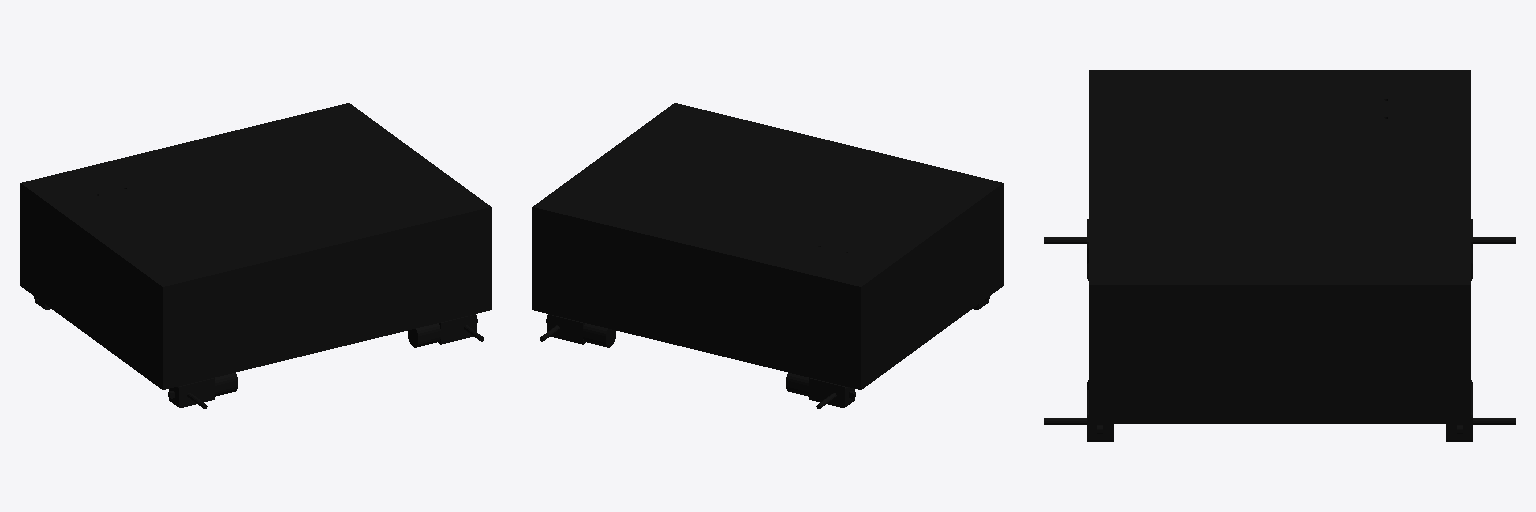
The robot description file, URDF, robot "mecanumbot":
<robot
  name="mecanumbot">
  <link
    name="base_link">
    <inertial>
      <origin
        xyz="-0.0468302529926084 -0.0134185737759999 -0.0824261310140349"
        rpy="0 0 0" />
      <mass
        value="0.963214943605585" />
      <inertia
        ixx="0.0134647040144989"
        ixy="-0.000265463820446584"
        ixz="-2.78747068323768E-05"
        iyy="0.00653225014173843"
        iyz="8.21292306097245E-05"
        izz="0.0182974601808885" />
    </inertial>
    <visual>
      <origin
        xyz="0 0 0"
        rpy="0 0 0" />
      <geometry>
        <mesh
          filename="package://cyrobot/urdf/mecanum/base_link.STL" />
      </geometry>
      <material
        name="">
        <color
          rgba="0.0980392156862745 0.0980392156862745 0.0980392156862745 1" />
      </material>
    </visual>
    <collision>
      <origin
        xyz="0 0 0"
        rpy="0 0 0" />
      <geometry>
        <mesh
          filename="package://cyrobot/urdf/mecanum/base_link.STL" />
      </geometry>
    </collision>
  </link>
  <link
    name="fl_wheel_link">
    <inertial>
      <origin
        xyz="0.02108 -8.5029E-07 3.7806E-05"
        rpy="0 0 0" />
      <mass
        value="0.33461" />
      <inertia
        ixx="0.00031908"
        ixy="4.8609E-07"
        ixz="2.8449E-07"
        iyy="0.0002658"
        iyz="-4.3138E-07"
        izz="0.00026633" />
    </inertial>
    <visual>
      <origin
        xyz="0 0 0"
        rpy="0 0 0" />
      <geometry>
        <mesh
          filename="package://cyrobot/urdf/mecanum/fl_wheel_link.STL" />
      </geometry>
      <material
        name="">
        <color
          rgba="0.5 0.5 0.5 1" />
      </material>
    </visual>
    <collision>
      <origin
        xyz="0 0 0"
        rpy="0 0 0" />
      <geometry>
        <mesh
          filename="package://cyrobot/urdf/mecanum/fl_wheel_link.STL" />
      </geometry>
    </collision>
  </link>
  <joint
    name="base_link_to_fl_wheel_joint"
    type="continuous">
    <origin
      xyz="0.0788531486544269 -0.147251192141458 -0.0851412158001636"
      rpy="1.5707963267949 0 0" />
    <parent
      link="base_link" />
    <child
      link="fl_wheel_link" />
    <axis
      xyz="-1 0 0" />
  </joint>
  <link
    name="fr_wheel_link">
    <inertial>
      <origin
        xyz="0.021164 5.4602E-06 -1.1653E-05"
        rpy="0 0 0" />
      <mass
        value="0.33461" />
      <inertia
        ixx="0.00031906"
        ixy="-1.3078E-07"
        ixz="9.0598E-08"
        iyy="0.00026623"
        iyz="2.618E-08"
        izz="0.00026621" />
    </inertial>
    <visual>
      <origin
        xyz="0 0 0"
        rpy="0 0 0" />
      <geometry>
        <mesh
          filename="package://cyrobot/urdf/mecanum/fr_wheel_link.STL" />
      </geometry>
      <material
        name="">
        <color
          rgba="0.5 0.5 0.5 1" />
      </material>
    </visual>
    <collision>
      <origin
        xyz="0 0 0"
        rpy="0 0 0" />
      <geometry>
        <mesh
          filename="package://cyrobot/urdf/mecanum/fr_wheel_link.STL" />
      </geometry>
    </collision>
  </link>
  <joint
    name="base_link_to_fr_wheel_joint"
    type="continuous">
    <origin
      xyz="-0.168291019374608 -0.147251192141458 -0.0851412158001628"
      rpy="2.08567039686228 0 3.14159265358979" />
    <parent
      link="base_link" />
    <child
      link="fr_wheel_link" />
    <axis
      xyz="1 0 0" />
  </joint>
  <link
    name="bl_wheel_link">
    <inertial>
      <origin
        xyz="0.021164 7.7945E-06 -6.7187E-06"
        rpy="0 0 0" />
      <mass
        value="0.33461" />
      <inertia
        ixx="0.00031906"
        ixy="-1.5891E-07"
        ixz="3.1125E-08"
        iyy="0.00026624"
        iyz="1.7121E-08"
        izz="0.0002662" />
    </inertial>
    <visual>
      <origin
        xyz="0 0 0"
        rpy="0 0 0" />
      <geometry>
        <mesh
          filename="package://cyrobot/urdf/mecanum/bl_wheel_link.STL" />
      </geometry>
      <material
        name="">
        <color
          rgba="0.5 0.5 0.5 1" />
      </material>
    </visual>
    <collision>
      <origin
        xyz="0 0 0"
        rpy="0 0 0" />
      <geometry>
        <mesh
          filename="package://cyrobot/urdf/mecanum/bl_wheel_link.STL" />
      </geometry>
    </collision>
  </link>
  <joint
    name="base_link_to_bl_wheel_joint"
    type="continuous">
    <origin
      xyz="0.0788180033333974 0.110748807858542 -0.0851412158001625"
      rpy="1.5707963267949 0 0" />
    <parent
      link="base_link" />
    <child
      link="bl_wheel_link" />
    <axis
      xyz="1 0 0" />
  </joint>
  <link
    name="br_wheel_link">
    <inertial>
      <origin
        xyz="0.02108 -3.0956E-06 3.2979E-05"
        rpy="0 0 0" />
      <mass
        value="0.33461" />
      <inertia
        ixx="0.00031908"
        ixy="5.1312E-07"
        ixz="3.4259E-07"
        iyy="0.00026578"
        iyz="-4.2237E-07"
        izz="0.00026634" />
    </inertial>
    <visual>
      <origin
        xyz="0 0 0"
        rpy="0 0 0" />
      <geometry>
        <mesh
          filename="package://cyrobot/urdf/mecanum/br_wheel_link.STL" />
      </geometry>
      <material
        name="">
        <color
          rgba="0.5 0.5 0.5 1" />
      </material>
    </visual>
    <collision>
      <origin
        xyz="0 0 0"
        rpy="0 0 0" />
      <geometry>
        <mesh
          filename="package://cyrobot/urdf/mecanum/br_wheel_link.STL" />
      </geometry>
    </collision>
  </link>
  <joint
    name="base_link_to_br_wheel_joint"
    type="continuous">
    <origin
      xyz="-0.168326164695638 0.110748807858543 -0.0851412158001639"
      rpy="2.07266866801634 0 3.14159265358979" />
    <parent
      link="base_link" />
    <child
      link="br_wheel_link" />
    <axis
      xyz="-1 0 0" />
  </joint>
  <link
    name="base_laser">
    <inertial>
      <origin
        xyz="-0.00610408561341411 4.74394690197499E-10 -0.0117846353165668"
        rpy="0 0 0" />
      <mass
        value="0.209244181201808" />
      <inertia
        ixx="0.000110184398375382"
        ixy="-2.0430212811893E-12"
        ixz="2.33665153595339E-05"
        iyy="0.000168161810285351"
        iyz="-2.0599988717986E-12"
        izz="0.000217623921858232" />
    </inertial>
    <visual>
      <origin
        xyz="0 0 0"
        rpy="0 0 0" />
      <geometry>
        <mesh
          filename="package://cyrobot/urdf/mecanum/base_laser.STL" />
      </geometry>
      <material
        name="">
        <color
          rgba="0.0980392156862745 0.0980392156862745 0.0980392156862745 1" />
      </material>
    </visual>
    <collision>
      <origin
        xyz="0 0 0"
        rpy="0 0 0" />
      <geometry>
        <mesh
          filename="package://cyrobot/urdf/mecanum/base_laser.STL" />
      </geometry>
    </collision>
  </link>
  <joint
    name="base_link_to_base_laser"
    type="fixed">
    <origin
      xyz="-0.0447365080206049 -0.117567277135445 -0.00506621580016293"
      rpy="0 -6.12303176911189E-17 -1.5707963267949" />
    <parent
      link="base_link" />
    <child
      link="base_laser" />
    <axis
      xyz="0 0 0" />
  </joint>
  <link
    name="mid_plate_link">
    <inertial>
      <origin
        xyz="1.6128E-05 0.0015881 -0.017739"
        rpy="0 0 0" />
      <mass
        value="0.23689" />
      <inertia
        ixx="0.002171"
        ixy="-2.3382E-12"
        ixz="-5.1294E-07"
        iyy="0.0032534"
        iyz="-1.6807E-08"
        izz="0.0010828" />
    </inertial>
    <visual>
      <origin
        xyz="0 0 0"
        rpy="0 0 0" />
      <geometry>
        <mesh
          filename="package://cyrobot/urdf/mecanum/mid_plate_link.STL" />
      </geometry>
      <material
        name="">
        <color
          rgba="1 1 1 0.3" />
      </material>
    </visual>
    <collision>
      <origin
        xyz="0 0 0"
        rpy="0 0 0" />
      <geometry>
        <mesh
          filename="package://cyrobot/urdf/mecanum/mid_plate_link.STL" />
      </geometry>
    </collision>
  </link>
  <joint
    name="base_link_to_mid_plate_link"
    type="fixed">
    <origin
      xyz="-0.0447365080206053 -0.0182511921414576 -0.0204662158001629"
      rpy="1.5707963267949 0 0" />
    <parent
      link="base_link" />
    <child
      link="mid_plate_link" />
    <axis
      xyz="0 0 0" />
  </joint>
  <link
    name="top_plate_supports">
    <inertial>
      <origin
        xyz="0.032556 -0.021976 6.3957E-07"
        rpy="0 0 0" />
      <mass
        value="0.011427" />
      <inertia
        ixx="0.00013177"
        ixy="6.8725E-11"
        ixz="1.7139E-11"
        iyy="5.4806E-05"
        iyz="-5.7899E-11"
        izz="0.00018539" />
    </inertial>
    <visual>
      <origin
        xyz="0 0 0"
        rpy="0 0 0" />
      <geometry>
        <mesh
          filename="package://cyrobot/urdf/mecanum/top_plate_supports.STL" />
      </geometry>
      <material
        name="">
        <color
          rgba="0.86667 0.9098 1 1" />
      </material>
    </visual>
    <collision>
      <origin
        xyz="0 0 0"
        rpy="0 0 0" />
      <geometry>
        <mesh
          filename="package://cyrobot/urdf/mecanum/top_plate_supports.STL" />
      </geometry>
    </collision>
  </link>
  <joint
    name="mid_plate_link_to_top_plate_supports"
    type="fixed">
    <origin
      xyz="-0.0325563676649805 0.015675 0.006161057906821"
      rpy="1.5707963267949 0 0" />
    <parent
      link="mid_plate_link" />
    <child
      link="top_plate_supports" />
    <axis
      xyz="0 0 0" />
  </joint>
  <link
    name="top_plate_link">
    <inertial>
      <origin
        xyz="-0.16966 0.00013265 -0.0015888"
        rpy="0 0 0" />
      <mass
        value="0.28331" />
      <inertia
        ixx="0.0011384"
        ixy="-5.8832E-06"
        ixz="-1.9222E-09"
        iyy="0.0027192"
        iyz="5.0491E-11"
        izz="0.0038572" />
    </inertial>
    <visual>
      <origin
        xyz="0 0 0"
        rpy="0 0 0" />
      <geometry>
        <mesh
          filename="package://cyrobot/urdf/mecanum/top_plate_link.STL" />
      </geometry>
      <material
        name="">
        <color
          rgba="1 1 1 0.3" />
      </material>
    </visual>
    <collision>
      <origin
        xyz="0 0 0"
        rpy="0 0 0" />
      <geometry>
        <mesh
          filename="package://cyrobot/urdf/mecanum/top_plate_link.STL" />
      </geometry>
    </collision>
  </link>
  <joint
    name="top_plate_supports_to_top_plate_link"
    type="fixed">
    <origin
      xyz="0.0325563676649805 0.163838942093179 -0.015675"
      rpy="3.14159265358979 -8.67361737988403E-17 1.5707963267949" />
    <parent
      link="top_plate_supports" />
    <child
      link="top_plate_link" />
    <axis
      xyz="0 0 0" />
  </joint>
  <link
    name="camera_supports">
    <inertial>
      <origin
        xyz="0.097 0.042365 2.7756E-17"
        rpy="0 0 0" />
      <mass
        value="0.041975" />
      <inertia
        ixx="2.3362E-05"
        ixy="7.0655E-23"
        ixz="8.4124E-20"
        iyy="0.00039559"
        iyz="-7.0524E-23"
        izz="0.0004183" />
    </inertial>
    <visual>
      <origin
        xyz="0 0 0"
        rpy="0 0 0" />
      <geometry>
        <mesh
          filename="package://cyrobot/urdf/mecanum/camera_supports.STL" />
      </geometry>
      <material
        name="">
        <color
          rgba="0.86667 0.9098 1 1" />
      </material>
    </visual>
    <collision>
      <origin
        xyz="0 0 0"
        rpy="0 0 0" />
      <geometry>
        <mesh
          filename="package://cyrobot/urdf/mecanum/camera_supports.STL" />
      </geometry>
    </collision>
  </link>
  <joint
    name="top_plate_link_to_camera_supports"
    type="fixed">
    <origin
      xyz="-0.29 -0.097 0"
      rpy="1.5707963267949 0 1.5707963267949" />
    <parent
      link="top_plate_link" />
    <child
      link="camera_supports" />
    <axis
      xyz="0 0 0" />
  </joint>
  <link
    name="camera_link">
    <inertial>
      <origin
        xyz="-0.029956 9.3245E-05 -0.0070276"
        rpy="0 0 0" />
      <mass
        value="0.69591" />
      <inertia
        ixx="0.0033836"
        ixy="1.7407E-06"
        ixz="5.1418E-06"
        iyy="0.00047859"
        iyz="4.5598E-07"
        izz="0.0033435" />
    </inertial>
    <visual>
      <origin
        xyz="0 0 0"
        rpy="0 0 0" />
      <geometry>
        <mesh
          filename="package://cyrobot/urdf/mecanum/camera_link.STL" />
      </geometry>
      <material
        name="">
        <color
          rgba="0.098039 0.098039 0.098039 1" />
      </material>
    </visual>
    <collision>
      <origin
        xyz="0 0 0"
        rpy="0 0 0" />
      <geometry>
        <mesh
          filename="package://cyrobot/urdf/mecanum/camera_link.STL" />
      </geometry>
    </collision>
  </link>
  <joint
    name="camera_supports_to_camera_link"
    type="fixed">
    <origin
      xyz="0.097 0.10242 0.0175000000000002"
      rpy="-1.5707963267949 -1.5707963267949 0" />
    <parent
      link="camera_supports" />
    <child
      link="camera_link" />
    <axis
      xyz="0 0 0" />
  </joint>
  <link
    name="e_stop">
    <inertial>
      <origin
        xyz="3.4694E-18 0.0063686 0"
        rpy="0 0 0" />
      <mass
        value="0.016321" />
      <inertia
        ixx="2.4638E-06"
        ixy="6.2017E-22"
        ixz="-2.6181E-22"
        iyy="1.3157E-06"
        iyz="-1.9965E-22"
        izz="2.4638E-06" />
    </inertial>
    <visual>
      <origin
        xyz="0 0 0"
        rpy="0 0 0" />
      <geometry>
        <mesh
          filename="package://cyrobot/urdf/mecanum/e_stop.STL" />
      </geometry>
      <material
        name="">
        <color
          rgba="0.7 0 0 1" />
      </material>
    </visual>
    <collision>
      <origin
        xyz="0 0 0"
        rpy="0 0 0" />
      <geometry>
        <mesh
          filename="package://cyrobot/urdf/mecanum/e_stop.STL" />
      </geometry>
    </collision>
  </link>
  <joint
    name="base_link_to_e_stop"
    type="fixed">
    <origin
      xyz="0.0184384919793947 0.144923807858542 -0.0836412158001629"
      rpy="-6.12303176911189E-17 0 0" />
    <parent
      link="base_link" />
    <child
      link="e_stop" />
    <axis
      xyz="0 0 0" />
  </joint>
</robot>

--- Render facts (derived) ---
The picture shows the robot from 3 angles, left to right: view 1: azimuth 30°, elevation 25°; view 2: azimuth 150°, elevation 25°; view 3: azimuth 270°, elevation 25°; orthographic projection.
Model mecanumbot with 12 links and 11 joints (4 continuous, 7 fixed), rooted at base_link, posed every joint at zero.
Visible links, largest first — view 1: base_link; view 2: base_link; view 3: base_link.
Boxes of the visible links, <box> form: base_link: <box>20,103,491,408</box>; base_link: <box>532,103,1003,408</box>; base_link: <box>1044,70,1515,441</box>.
Bounding box of the posed robot: 0.36 × 0.3328 × 0.1305 m (x, y, z).
1 mesh visuals loaded from 12 distinct referenced files (1 binary STL); not drawn: 11 (reference not matched to a file when rendering).